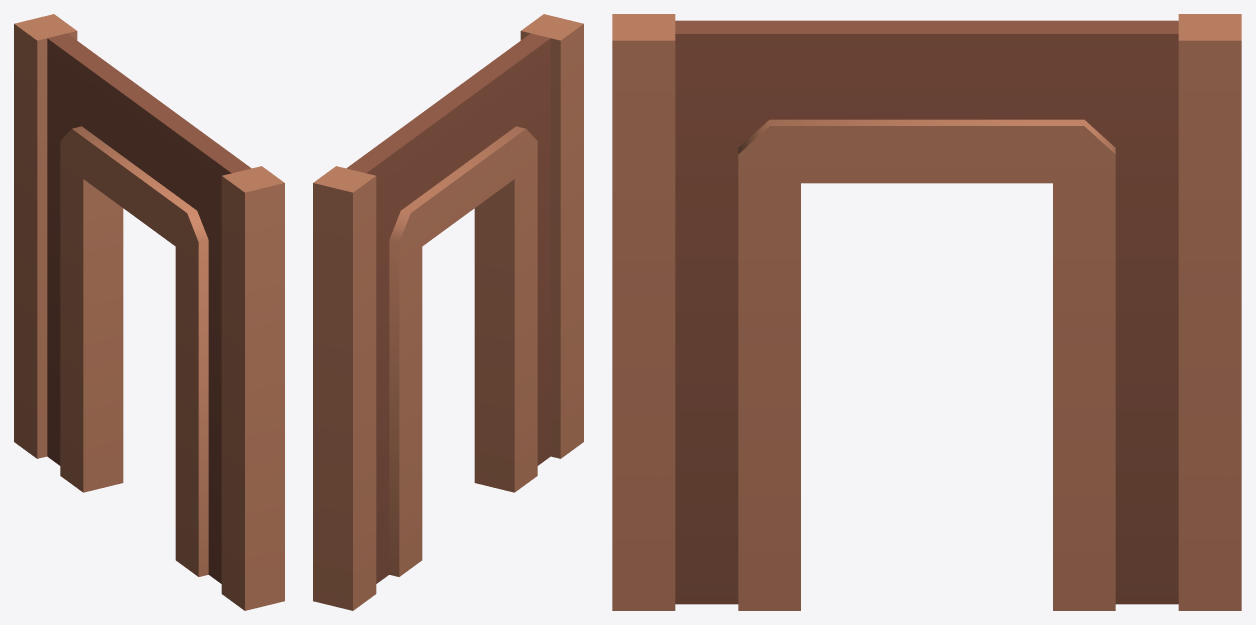
Rendered from gate-kn-wall-wood-doorway-square.glb.
3 renders of one model, left to right at view 1: azimuth 30°, elevation 25°; view 2: azimuth 150°, elevation 25°; view 3: azimuth 270°, elevation 25°, orthographic. The views are drawn at different scales.
Visible parts, largest first — view 1: wall-wood-doorway-square; view 2: wall-wood-doorway-square; view 3: wall-wood-doorway-square.
Boxes of the visible parts, x1,y1,x2,y2 form: wall-wood-doorway-square: (14, 14, 284, 610); wall-wood-doorway-square: (313, 14, 583, 610); wall-wood-doorway-square: (612, 14, 1241, 610).
Bounding box in the file's own units: 0.3 × 3 × 3.
1 material, 1 textured.
